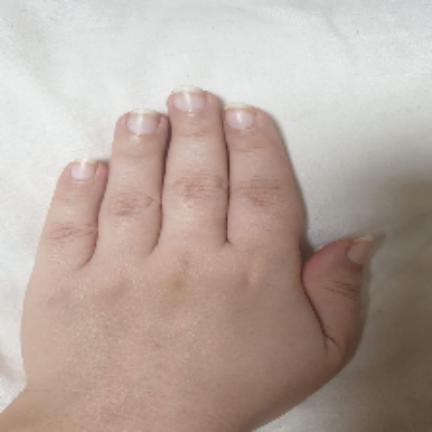Nail: (224, 102, 254, 130), (347, 235, 375, 265), (172, 86, 204, 112), (127, 109, 159, 134), (71, 158, 96, 180)
